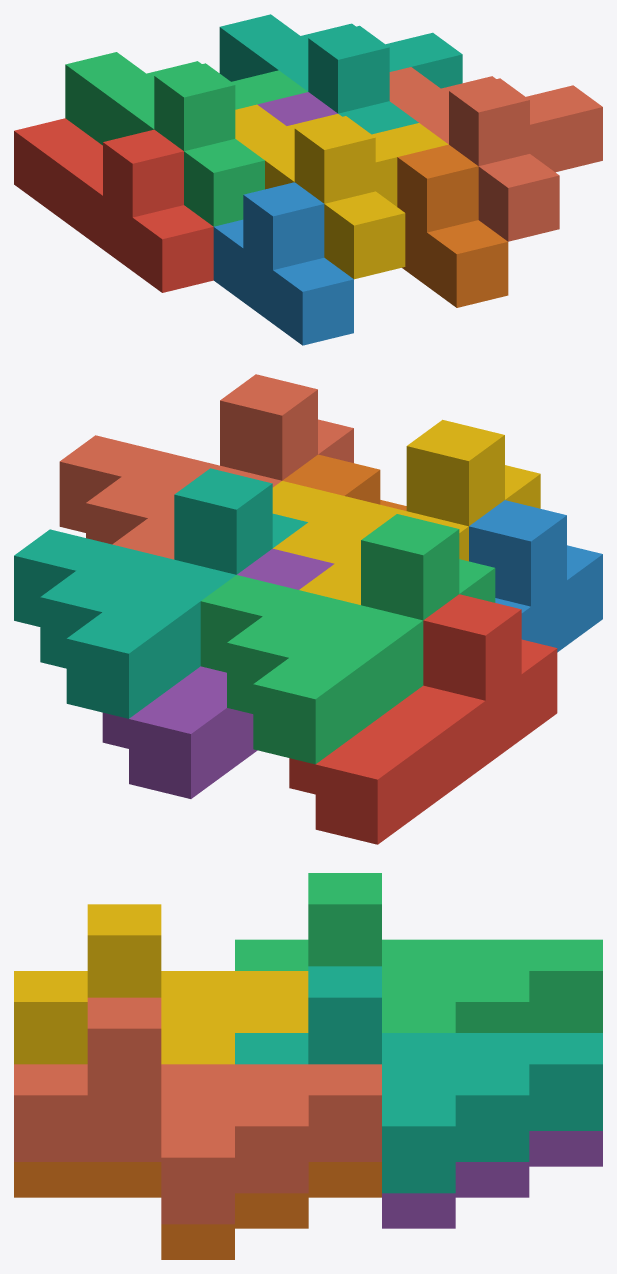
File: tiling.obj
The picture shows the model from 3 angles, top to bottom: view 1: azimuth 30°, elevation 25°; view 2: azimuth 150°, elevation 25°; view 3: azimuth 270°, elevation 25°; orthographic projection. The views are drawn at different scales.
Parts seen in each view (by area): view 1: copy_1_domain_1, copy_1_domain_8, copy_1_domain_3, copy_1_domain_4, copy_1_domain_2, copy_1_domain_7, copy_1_domain_6, copy_1_domain_5; view 2: copy_1_domain_3, copy_1_domain_7, copy_1_domain_1, copy_1_domain_8, copy_1_domain_4, copy_1_domain_5, copy_1_domain_2, copy_1_domain_6; view 3: copy_1_domain_8, copy_1_domain_7, copy_1_domain_3, copy_1_domain_4, copy_1_domain_6, copy_1_domain_5.
Boxes of the visible parts, x1=… form: copy_1_domain_1: x1=14, y1=118, x2=213, y2=292; copy_1_domain_8: x1=389, y1=67, x2=602, y2=241; copy_1_domain_3: x1=65, y1=52, x2=307, y2=226; copy_1_domain_4: x1=235, y1=104, x2=448, y2=279; copy_1_domain_2: x1=213, y1=182, x2=353, y2=345; copy_1_domain_7: x1=219, y1=14, x2=462, y2=134; copy_1_domain_6: x1=397, y1=144, x2=508, y2=307; copy_1_domain_5: x1=257, y1=92, x2=337, y2=125; copy_1_domain_3: x1=200, y1=514, x2=495, y2=764; copy_1_domain_7: x1=14, y1=468, x2=307, y2=718; copy_1_domain_1: x1=289, y1=594, x2=557, y2=844; copy_1_domain_8: x1=59, y1=374, x2=353, y2=559; copy_1_domain_4: x1=272, y1=419, x2=540, y2=604; copy_1_domain_5: x1=102, y1=548, x2=334, y2=798; copy_1_domain_2: x1=469, y1=500, x2=602, y2=652; copy_1_domain_6: x1=282, y1=454, x2=406, y2=510; copy_1_domain_8: x1=14, y1=997, x2=381, y2=1224; copy_1_domain_7: x1=235, y1=966, x2=602, y2=1193; copy_1_domain_3: x1=235, y1=873, x2=602, y2=1032; copy_1_domain_4: x1=14, y1=904, x2=308, y2=1064; copy_1_domain_6: x1=14, y1=1162, x2=381, y2=1259; copy_1_domain_5: x1=382, y1=1131, x2=602, y2=1228.
Size of the model in its own units: 8 by 3 by 8.
